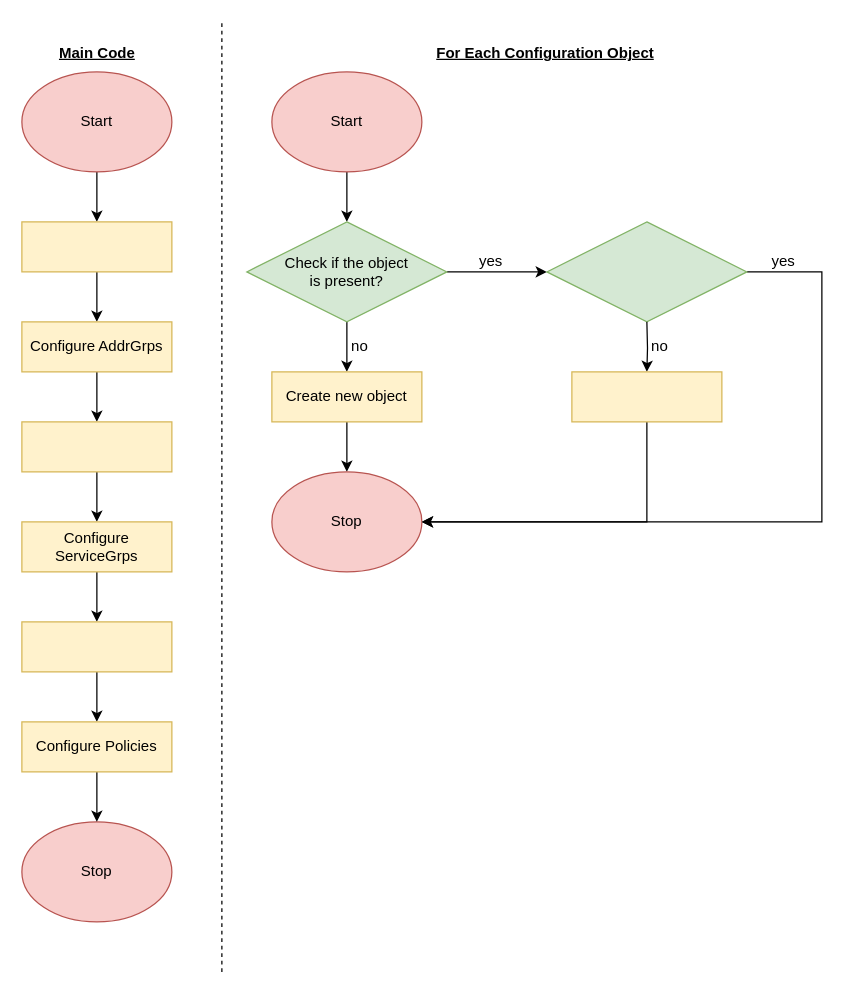
The diagram is 854 pixels wide and 995 high, and some of its shapes have lost their labels. The centre of each missing label's shape, as x and y in pixels:
"Check if value is same?" goes at point 646,271.
"Configure Addresses" goes at point 96,246.
"Configure Services" goes at point 96,446.
"Create new object with device-mapping" goes at point 646,396.
"Create new Policy-Package" goes at point 96,646.
